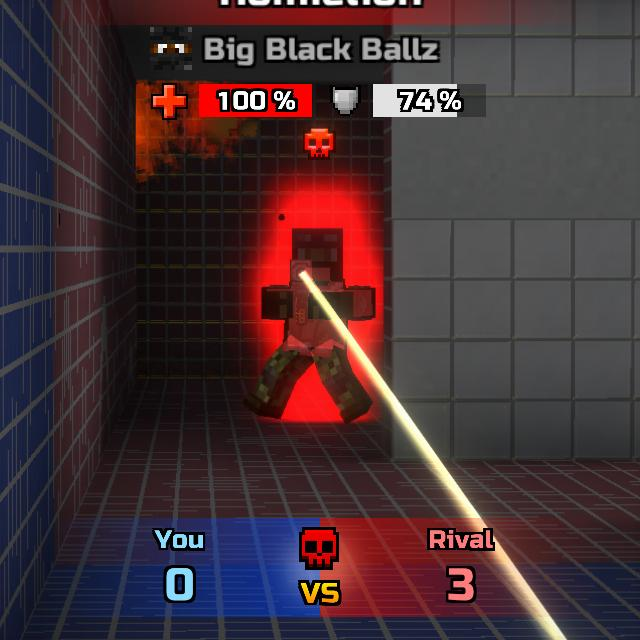Enemy: (247, 225, 376, 422)
